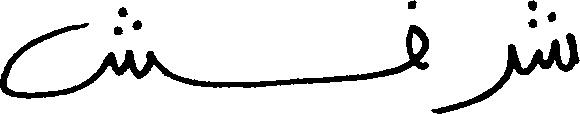X: (0, 2, 153, 103), (464, 39, 515, 111), (538, 7, 579, 76), (406, 0, 427, 74)
